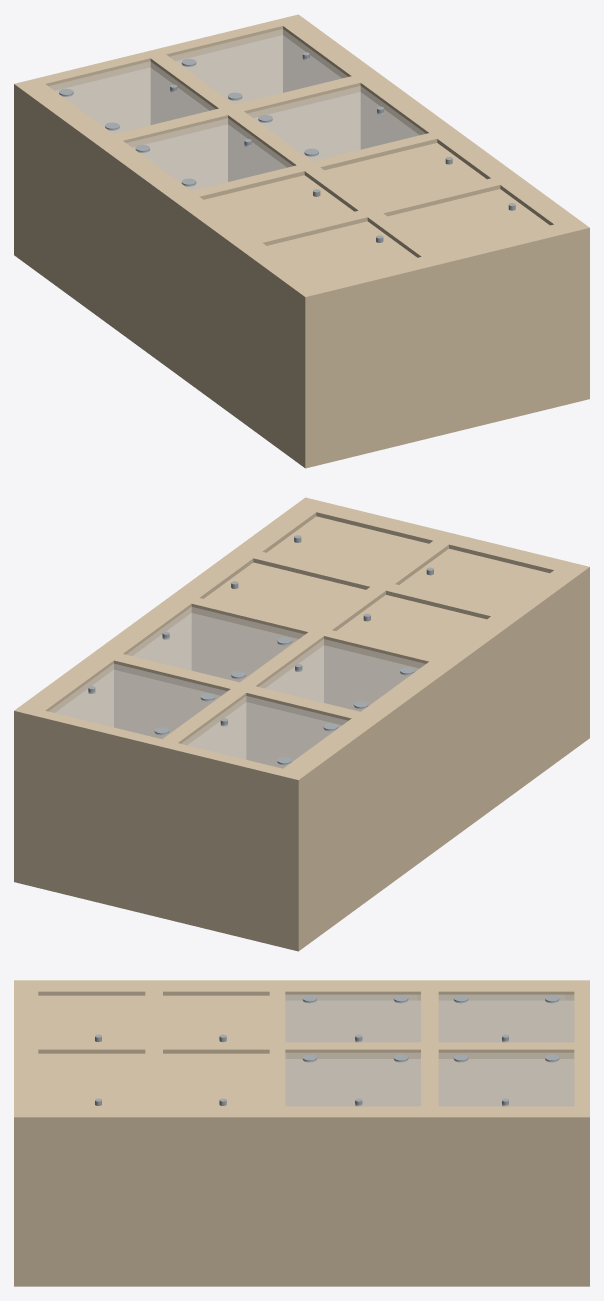
The model's file is Closet_Type_1.fbx.
3 renders of one model, top to bottom at view 1: azimuth 30°, elevation 25°; view 2: azimuth 150°, elevation 25°; view 3: azimuth 270°, elevation 25°, orthographic.
Parts seen in each view (by area): view 1: Closet_Type_1.001; view 2: Closet_Type_1.001; view 3: Closet_Type_1.001.
Boxes of the visible parts, <box> form: Closet_Type_1.001: <box>14,14,589,468</box>; Closet_Type_1.001: <box>14,497,589,951</box>; Closet_Type_1.001: <box>14,980,589,1286</box>.
Size of the model in its own units: 562 by 324 by 996.
